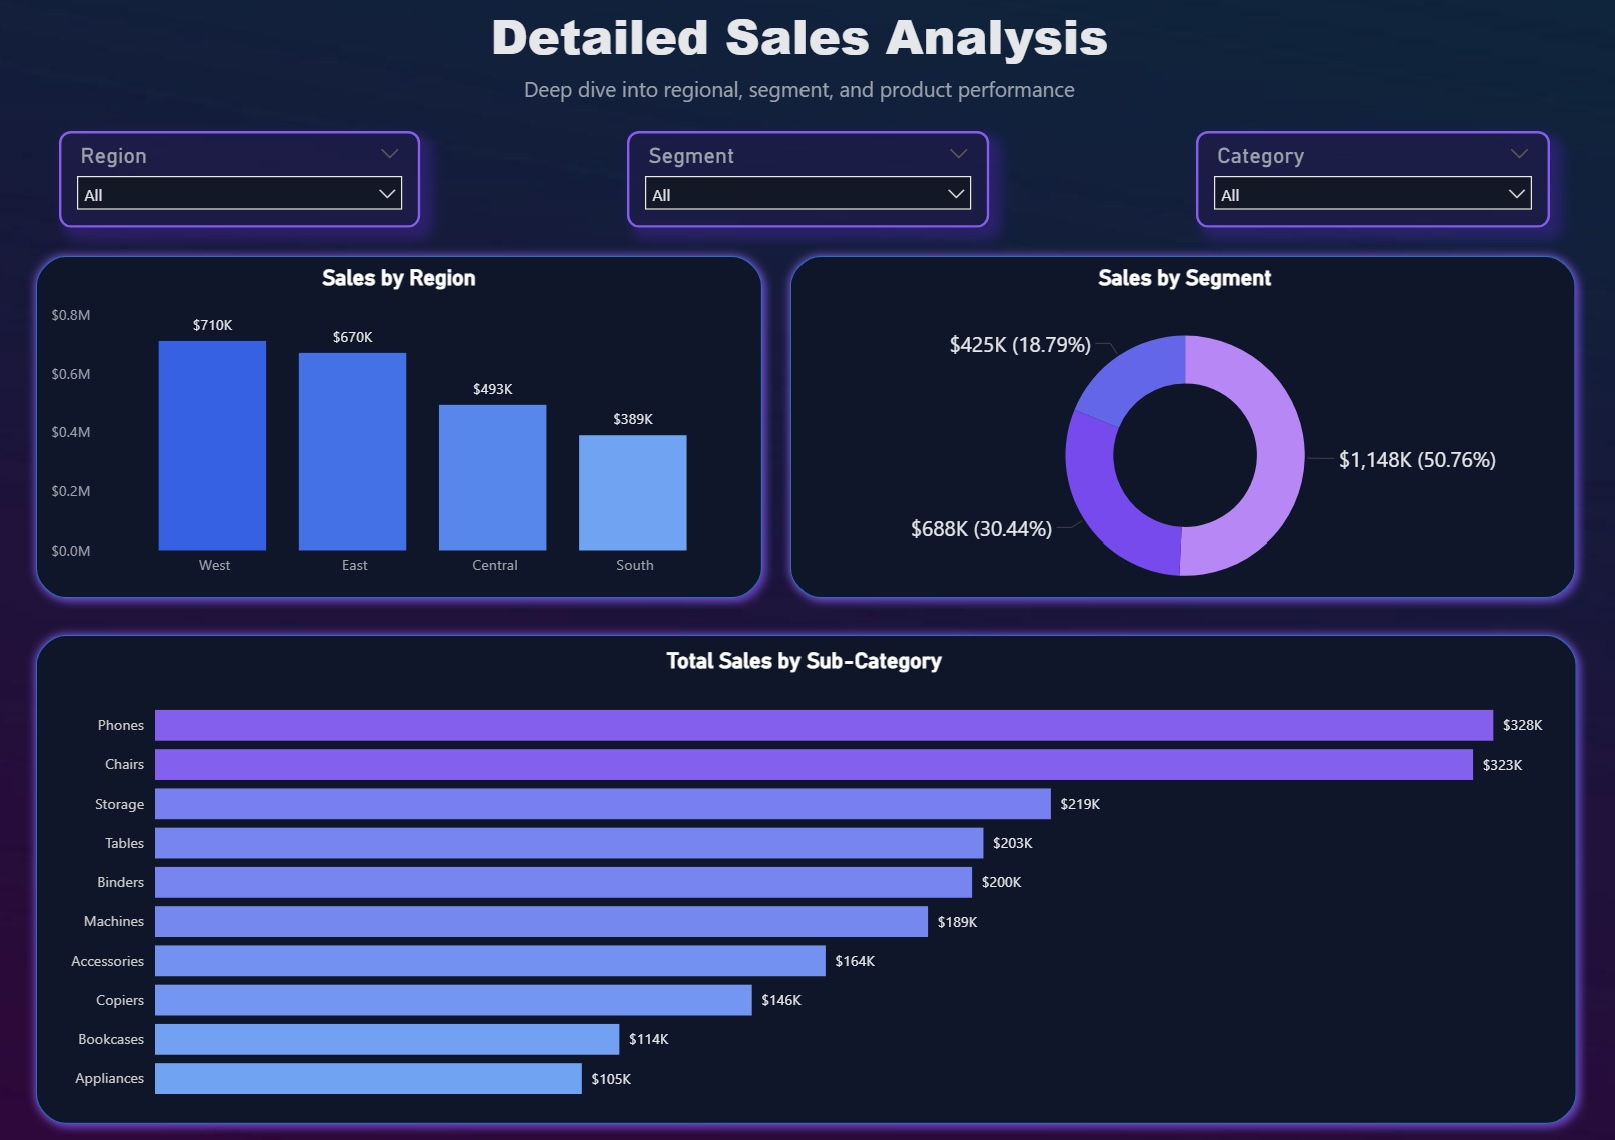

This screenshot's page, from the dashboard's own definition file:
{"tool":"powerbi","page":{"name":"Detailed Analysis","canvas":[1400,1000],"ordinal":1},"visuals":[{"type":"shape","box":[54.9,565.9,1301.2,425.6],"z":0},{"type":"shape","box":[54.9,251.2,623.2,302.4],"z":1000},{"type":"clusteredColumnChart","title":"Sales by Region","fields":{"Category":["train.Region"],"Y":["train.Total Sales"]},"box":[72,268.3,590.2,267.1],"z":2000},{"type":"slicer","fields":{"Values":["train.Region"]},"box":[82.9,157.3,301.2,80.5],"z":3000},{"type":"slicer","fields":{"Values":["train.Category"]},"box":[1029.3,157.3,295.1,80.5],"z":4000},{"type":"slicer","fields":{"Values":["train.Segment"]},"box":[556.1,157.3,301.2,80.5],"z":5000},{"type":"shape","box":[684.1,251.2,672,302.4],"z":6000},{"type":"donutChart","title":"Sales by Segment","fields":{"Category":["train.Segment"],"Y":["train.Total Sales"]},"box":[715.9,268.3,608.5,291.5],"z":7000},{"type":"clusteredBarChart","fields":{"Category":["train.Sub-Category"],"Y":["train.Total Sales"]},"box":[82.9,586.6,1241.5,390.2],"z":8000},{"type":"textbox","title":"Detailed Sales Analysis","box":[251.2,47.6,896.3,91.5],"z":9000}]}

Visuals, with their boxes in screenshot pixels (x1, y1, x2, y2), scaled from the page's 1400x1000 canvas onto the 1615x1140 screenshot:
shape: BBox(63, 645, 1564, 1130)
shape: BBox(63, 286, 782, 631)
"Sales by Region" clusteredColumnChart: BBox(83, 306, 764, 610)
slicer - train.Region: BBox(96, 179, 443, 271)
slicer - train.Category: BBox(1187, 179, 1528, 271)
slicer - train.Segment: BBox(642, 179, 989, 271)
shape: BBox(789, 286, 1564, 631)
"Sales by Segment" donutChart: BBox(826, 306, 1528, 638)
clusteredBarChart - train.Sub-Category x train.Total Sales: BBox(96, 669, 1528, 1114)
"Detailed Sales Analysis" textbox: BBox(290, 54, 1324, 159)
